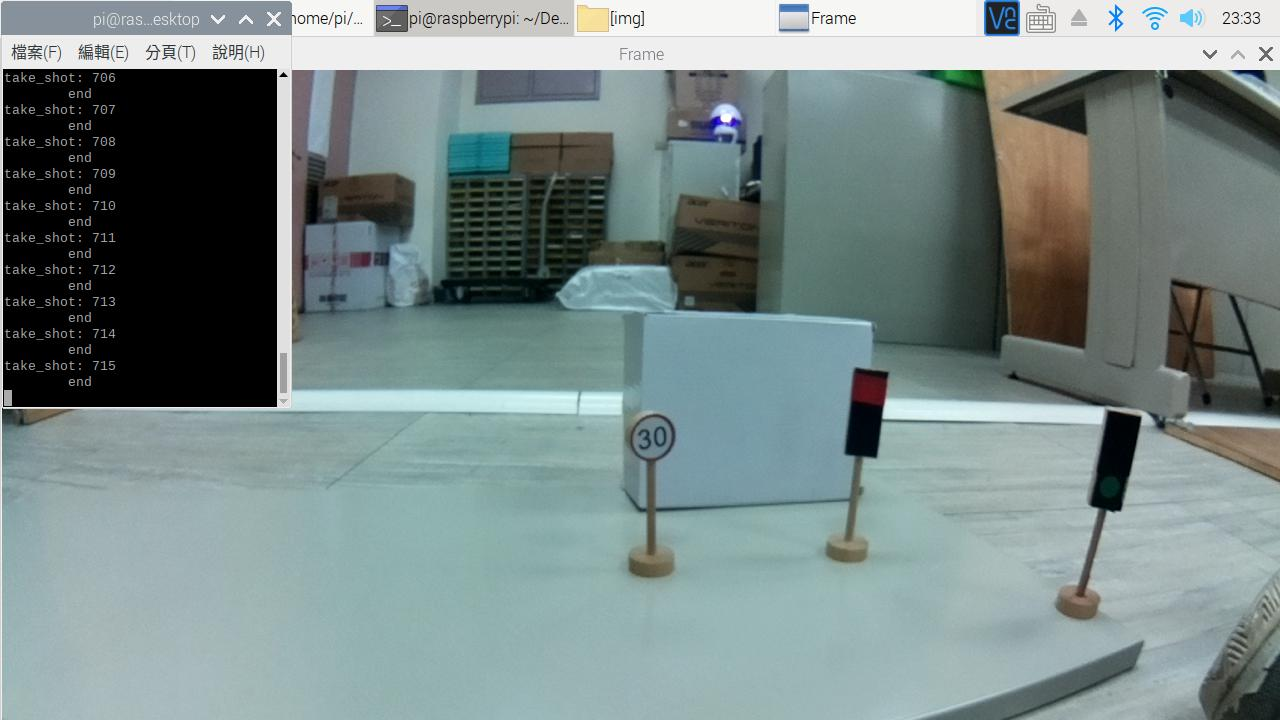Green: (1090, 398, 1146, 521)
Red: (830, 361, 904, 473)
Speed30: (625, 409, 683, 469)
